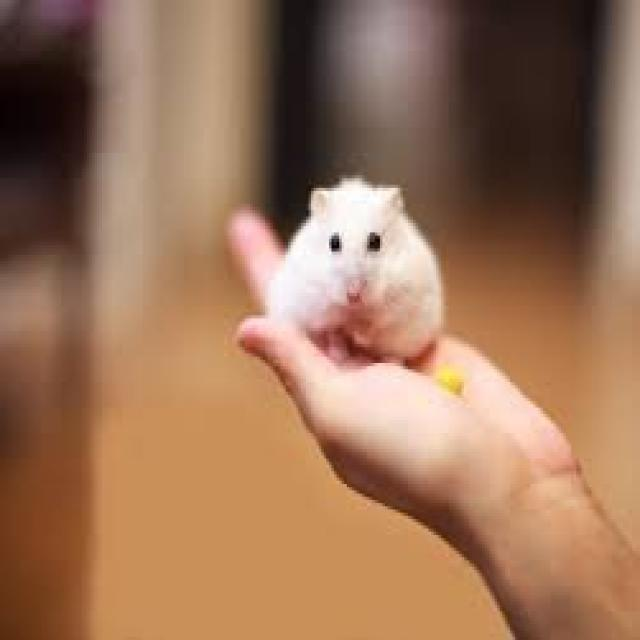hamster: (255, 178, 467, 360)
